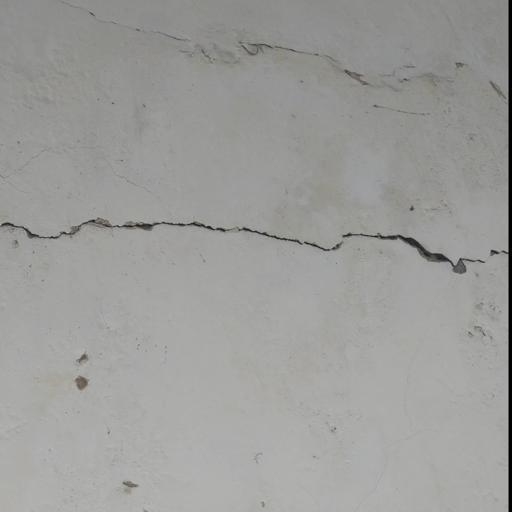major_crack: (0, 185, 511, 291)
